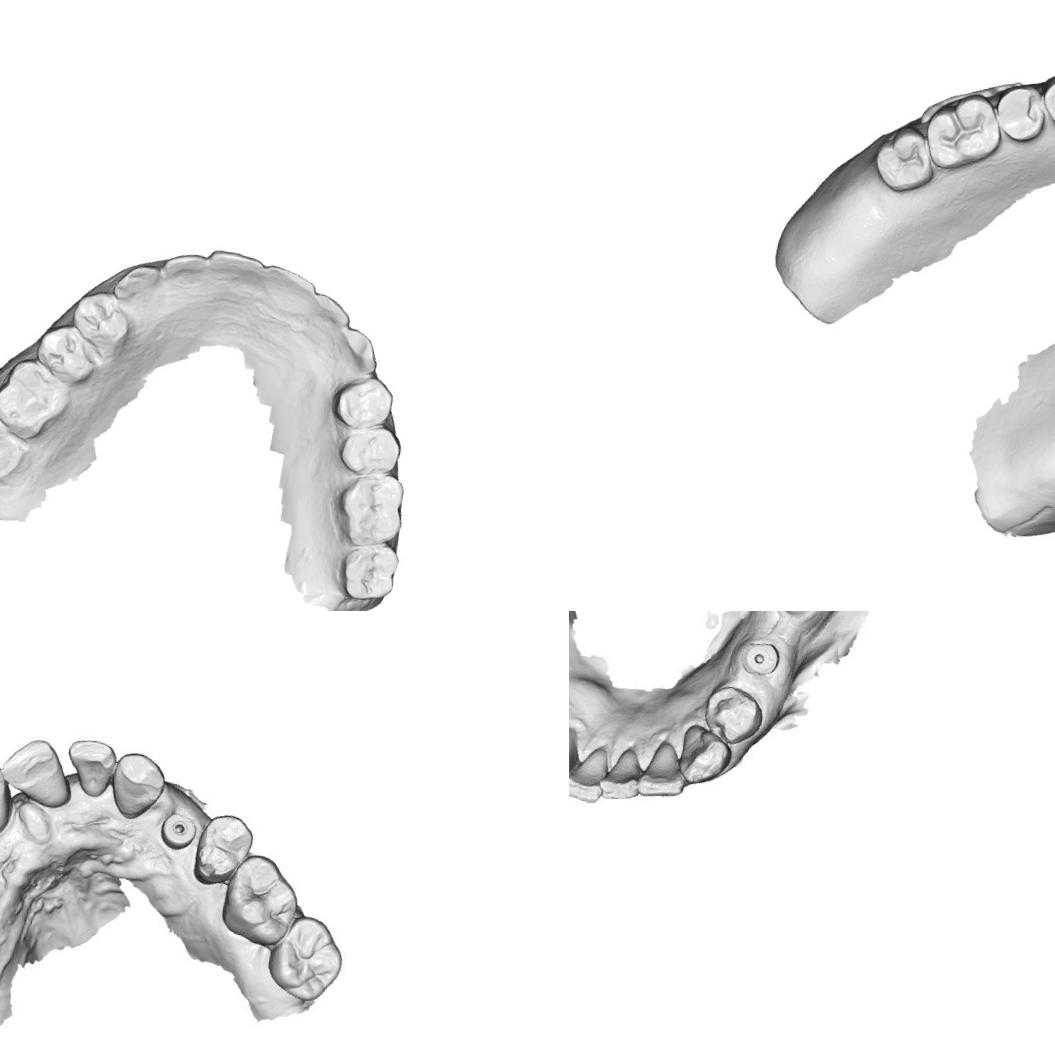canine: (103, 746, 170, 824), (678, 730, 734, 790), (330, 324, 381, 378), (110, 258, 166, 300)
implant: (156, 806, 200, 853), (742, 638, 783, 678)
incisor: (0, 733, 75, 815), (62, 736, 119, 802), (203, 244, 267, 294), (641, 737, 688, 802), (602, 744, 647, 803), (306, 289, 352, 346), (260, 262, 320, 304), (569, 744, 608, 804), (160, 248, 209, 292), (569, 724, 581, 783)
molar: (215, 849, 305, 950), (262, 911, 350, 1007), (920, 86, 1006, 174), (0, 352, 71, 445), (332, 467, 407, 550), (868, 122, 939, 196), (336, 538, 402, 606), (0, 409, 32, 487)
premolar: (189, 808, 258, 894), (67, 285, 134, 354), (32, 321, 100, 388), (328, 370, 396, 433), (987, 80, 1050, 144), (334, 420, 402, 478), (697, 686, 764, 743), (1039, 71, 1055, 130)
